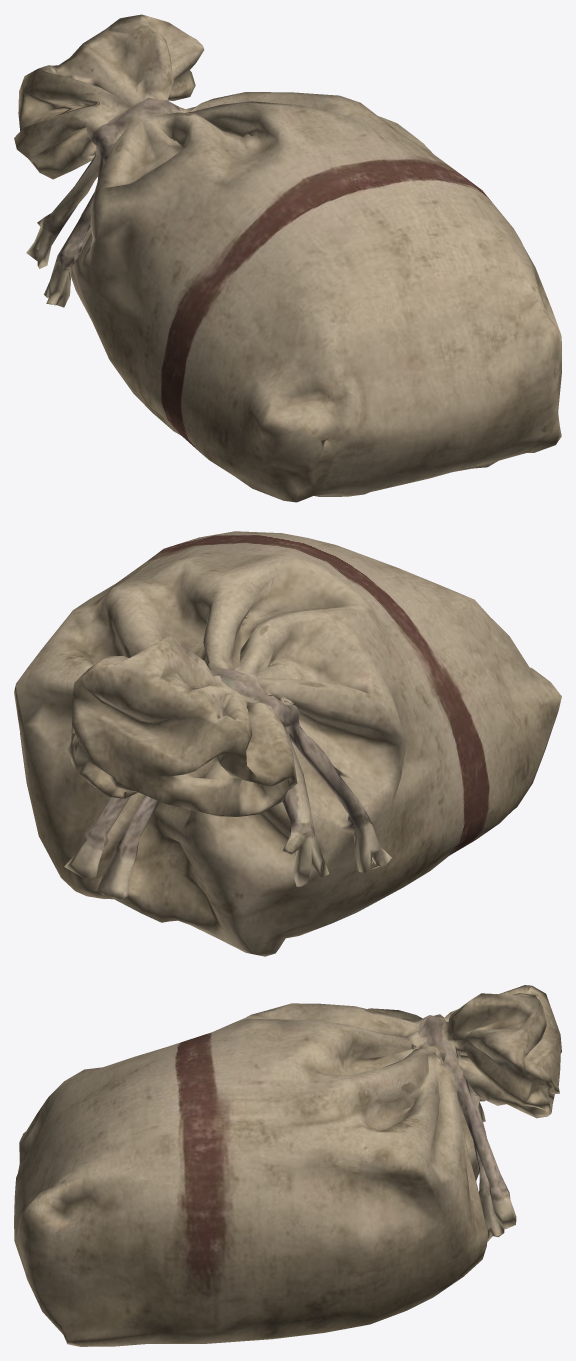
Rendered from dropped-bag.glb.
3 views of the same model, one above another, from view 1: azimuth 30°, elevation 25°; view 2: azimuth 150°, elevation 25°; view 3: azimuth 270°, elevation 25° (orthographic). The views are drawn at different scales.
Visible parts, largest first — view 1: Mesh_0; view 2: Mesh_0; view 3: Mesh_0.
Boxes of the visible parts, x1,y1,x2,y2 form: Mesh_0: [14, 14, 561, 502]; Mesh_0: [14, 531, 561, 956]; Mesh_0: [14, 985, 561, 1346].
Bounding box in the file's own units: 0.2255 × 0.1797 × 0.32.
1 material, 1 textured.
